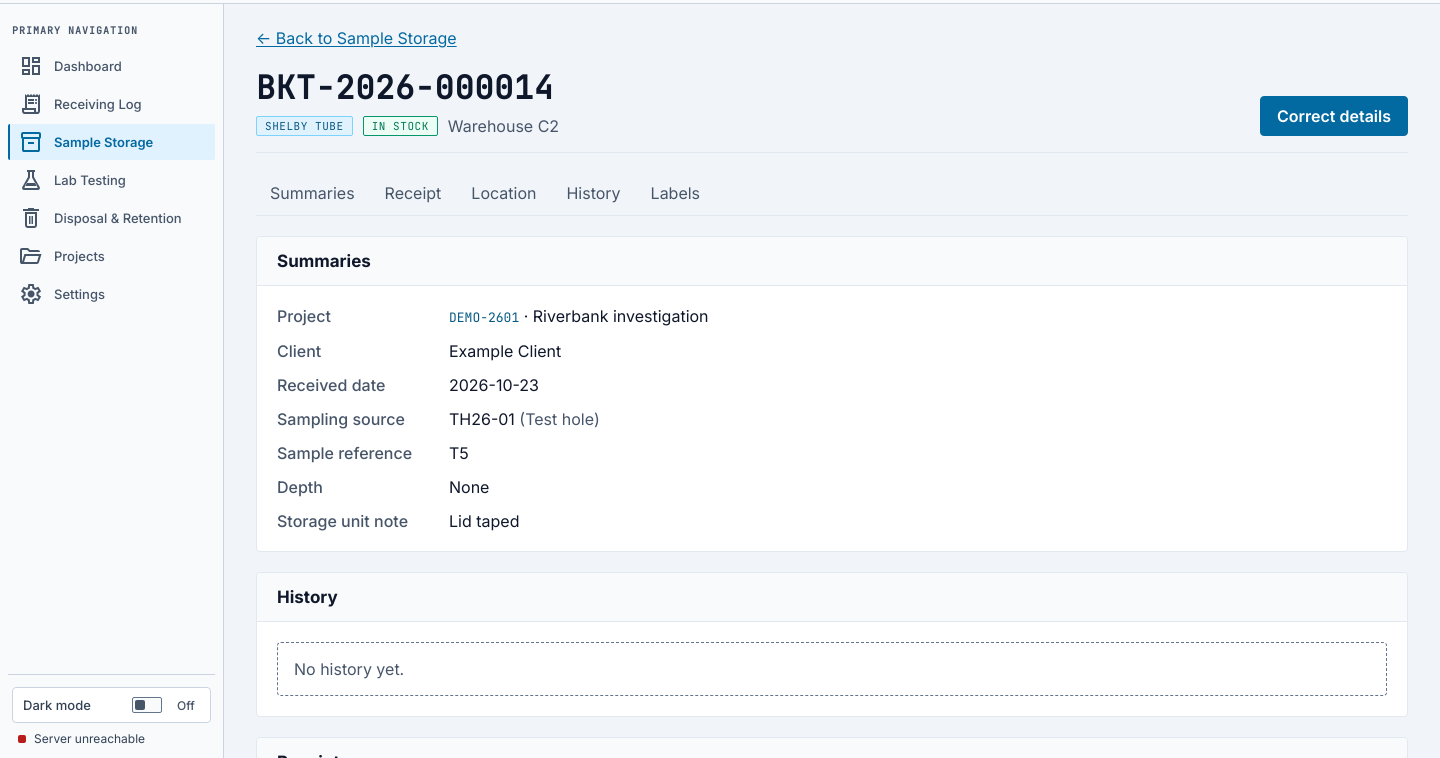
Test: storage unit corrections (MM-T13) › MM-T82: corrects a Shelby tube's sampling source, and says plainly when testing blocks it
Click the button "Correct details" at (1334, 116), box [1260,96,1408,136]
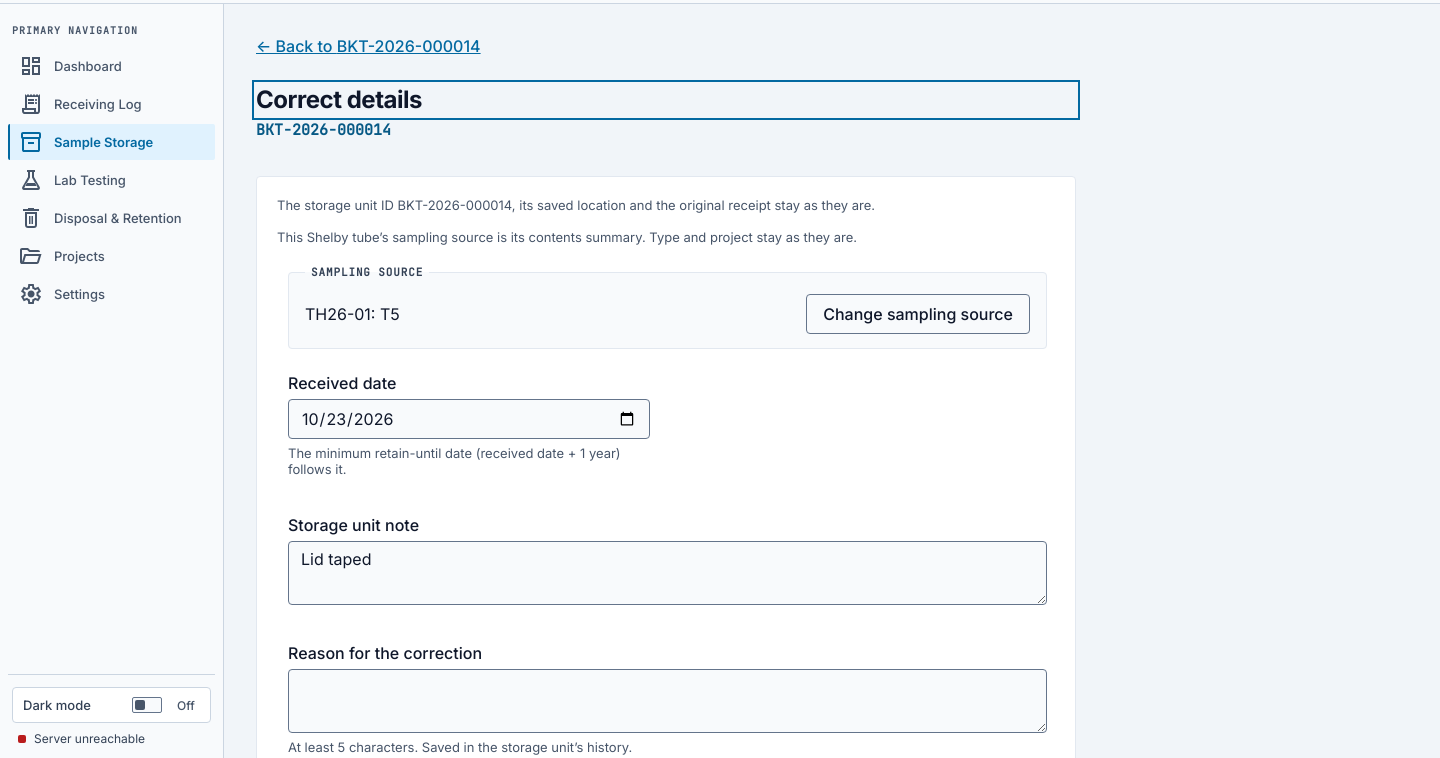
Expected: the text "TH26-01: T5" is shown, [305,304,400,324]
Click the button "Change sampling source" at (918, 314), box [806,294,1030,334]
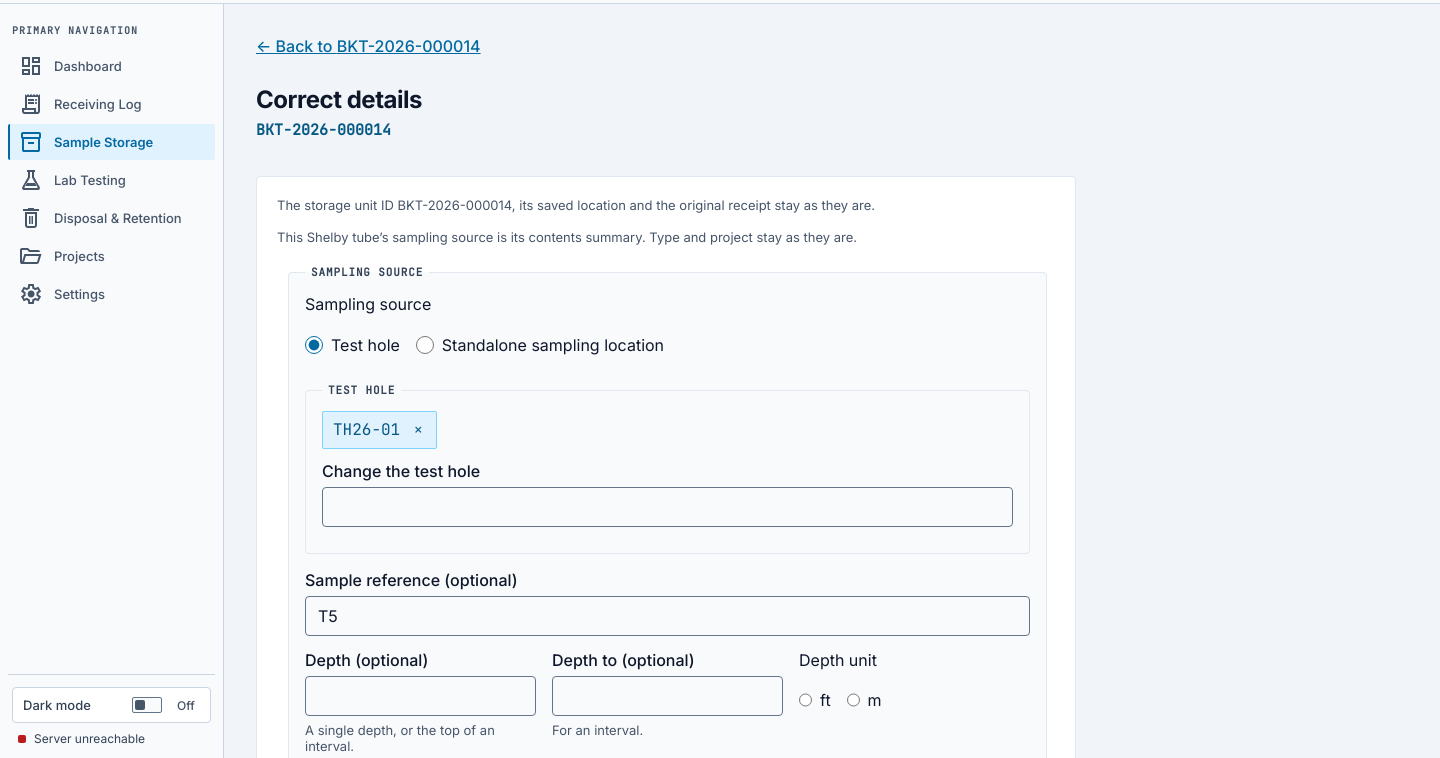
Click the radio button labelled "Standalone sampling location" at (425, 345), box [416,336,434,354]
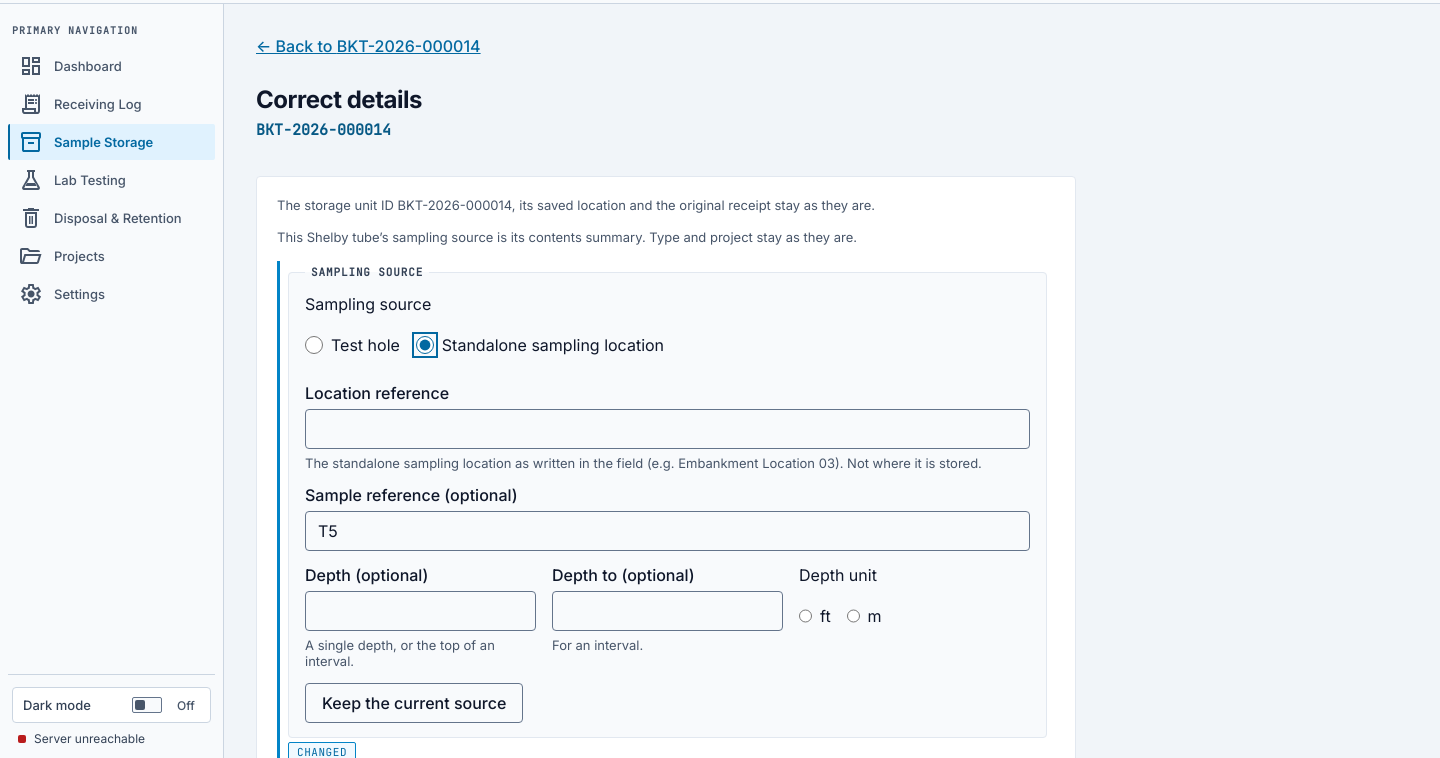
Type "Pit 4" into the field labelled "Location reference" at (668, 429), box [305,409,1030,449]
(page scrolled)
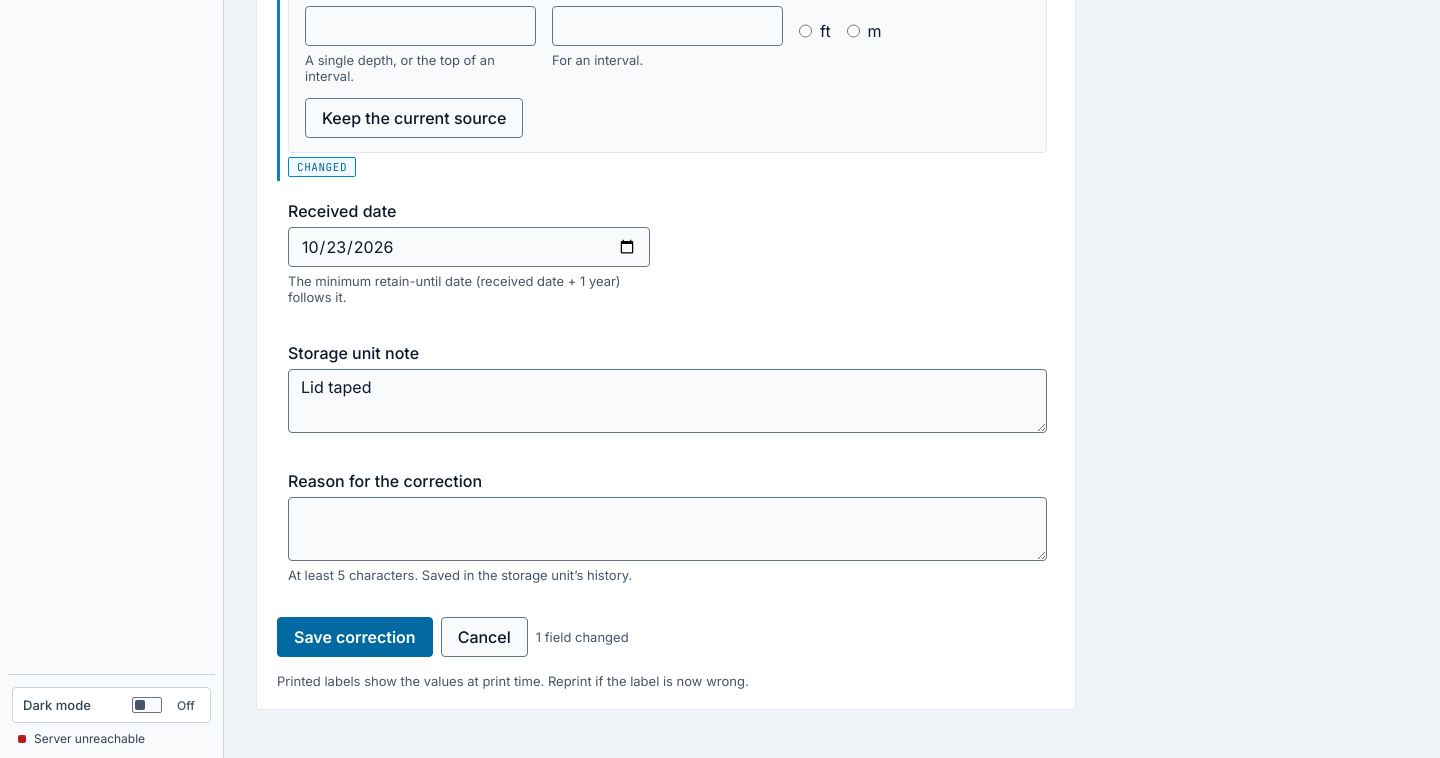
Expected: the text "1 field changed" is shown, [536,629,629,645]
Type "tag misread" into the text box labelled "Reason for the correction" at (668, 529), box [288,497,1047,561]
Click the button "Save correction" at (355, 637), box [277,617,433,657]
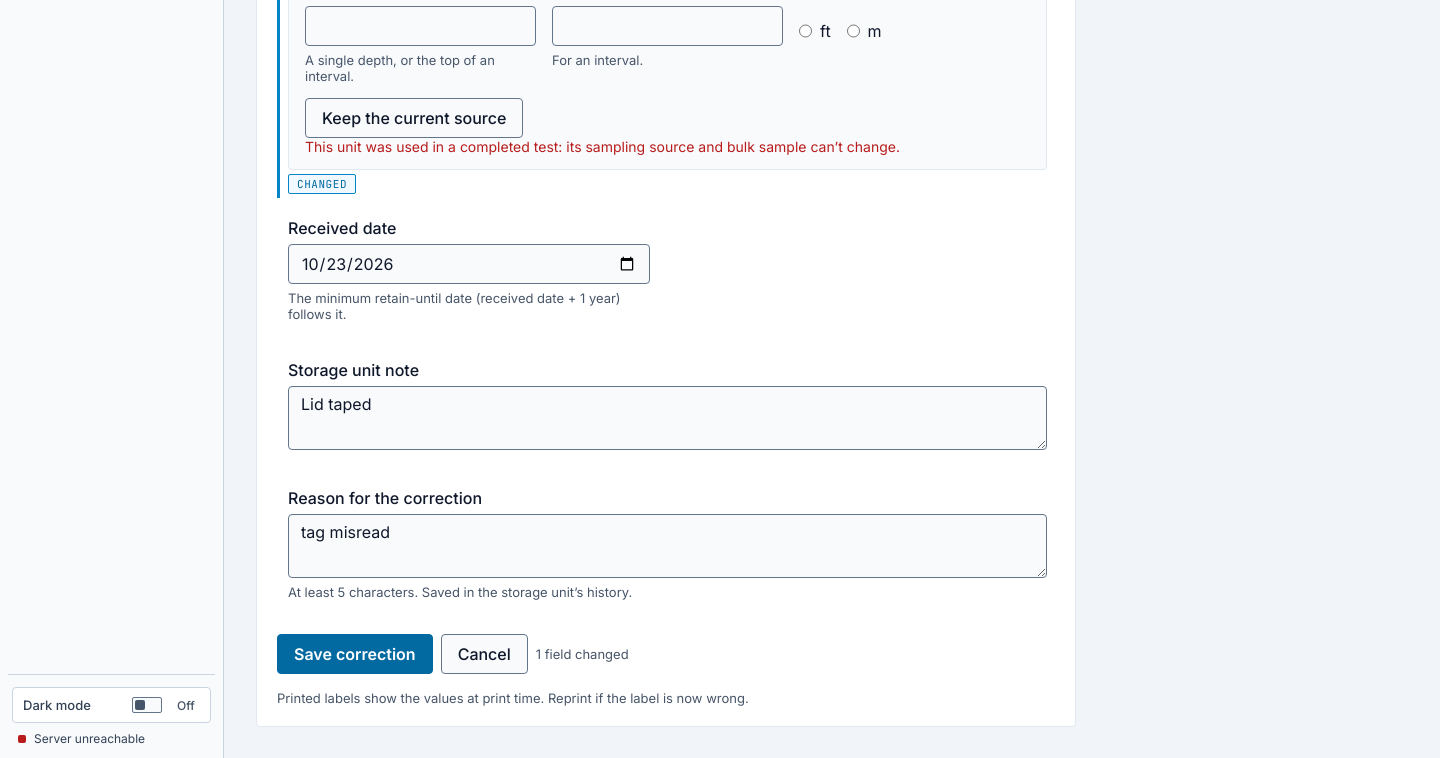
Expected: the text "This unit was used in a completed test: its sampling source and bulk sample can’t change." is shown, [305,138,900,155]
Click the button "Save correction" at (355, 654), box [277,634,433,674]
(page scrolled)
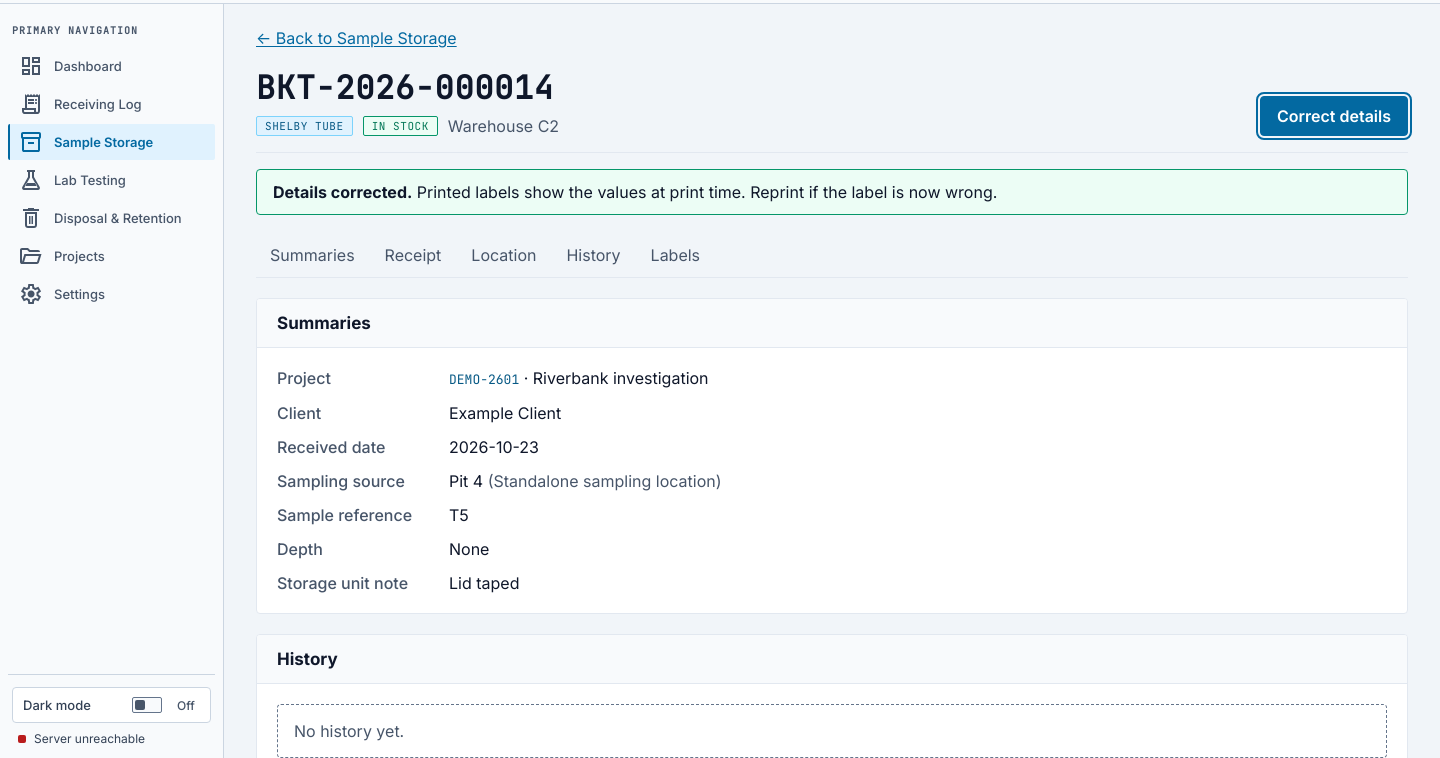
Expected: the text "Details corrected." is shown, [273,182,412,202]
